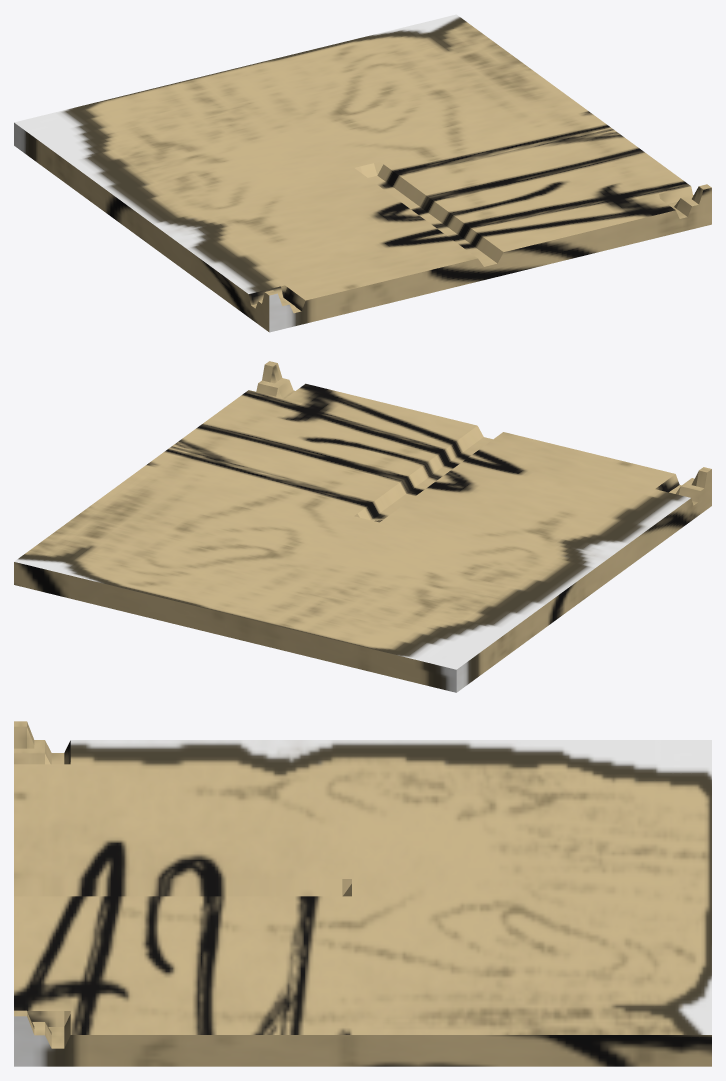
Rendered from EntranceFloor.fbx.
The picture shows the model from 3 angles, top to bottom: view 1: azimuth 30°, elevation 25°; view 2: azimuth 150°, elevation 25°; view 3: azimuth 270°, elevation 25°; orthographic projection. The views are drawn at different scales.
Visible parts, largest first — view 1: pCube179; view 2: pCube179; view 3: pCube179.
Boxes of the visible parts, bbox=[...] form: pCube179: bbox=[14, 14, 711, 332]; pCube179: bbox=[14, 361, 711, 692]; pCube179: bbox=[14, 721, 711, 1066].
Bounding box in the file's own units: 500 × 39.9 × 500.
1 material, 1 textured.
